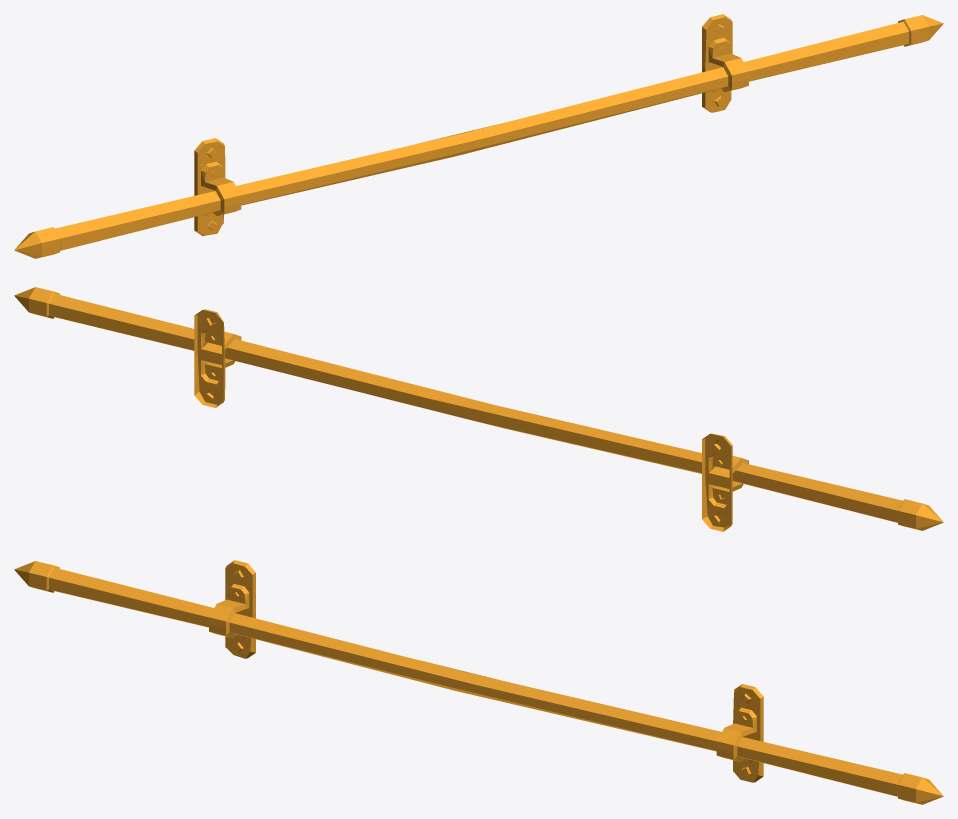
File: SM_Flag_Stand_Wood_Wall_B_Fantasy.fbx
The picture shows the model from 3 angles, top to bottom: view 1: azimuth 30°, elevation 25°; view 2: azimuth 150°, elevation 25°; view 3: azimuth 330°, elevation 25°; orthographic projection.
Visible parts, largest first — view 1: flag-stand-wood-wall-b-fantasy; view 2: flag-stand-wood-wall-b-fantasy; view 3: flag-stand-wood-wall-b-fantasy.
Part boxes in pixels (bbox=[...]): flag-stand-wood-wall-b-fantasy: bbox=[14, 14, 943, 258]; flag-stand-wood-wall-b-fantasy: bbox=[14, 287, 943, 531]; flag-stand-wood-wall-b-fantasy: bbox=[14, 560, 943, 804].
Size of the model in its own units: 2.39 by 0.2332 by 0.1062.
